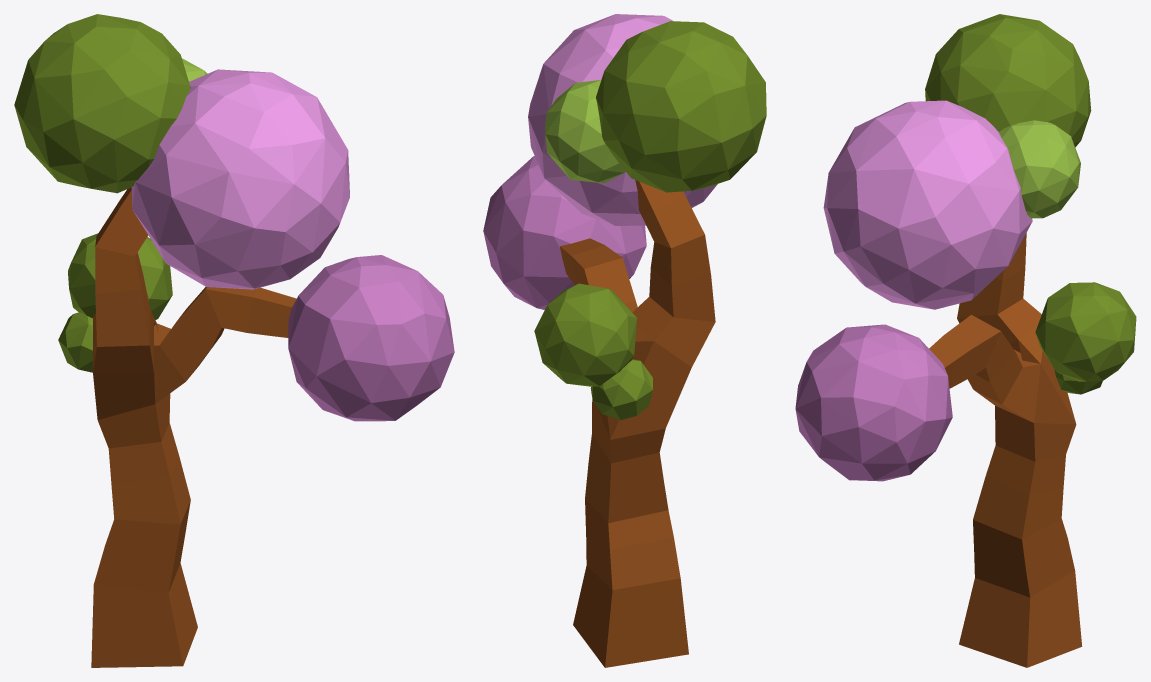
Rendered from tree no 6.fbx.
3 views of the same model, side by side, from view 1: azimuth 30°, elevation 25°; view 2: azimuth 150°, elevation 25°; view 3: azimuth 270°, elevation 25° (orthographic). The views are drawn at different scales.
Visible parts, largest first — view 1: Sphere.078, Cube.003; view 2: Sphere.078, Cube.003; view 3: Sphere.078, Cube.003.
Boxes of the visible parts, x1,y1,x2,y2 form: Sphere.078: (14,14,454,421); Cube.003: (91,187,296,667); Sphere.078: (483,14,766,420); Cube.003: (559,180,715,667); Sphere.078: (795,14,1136,481); Cube.003: (929,233,1082,667).
Bounding box in the file's own units: 166 × 298 × 152.
